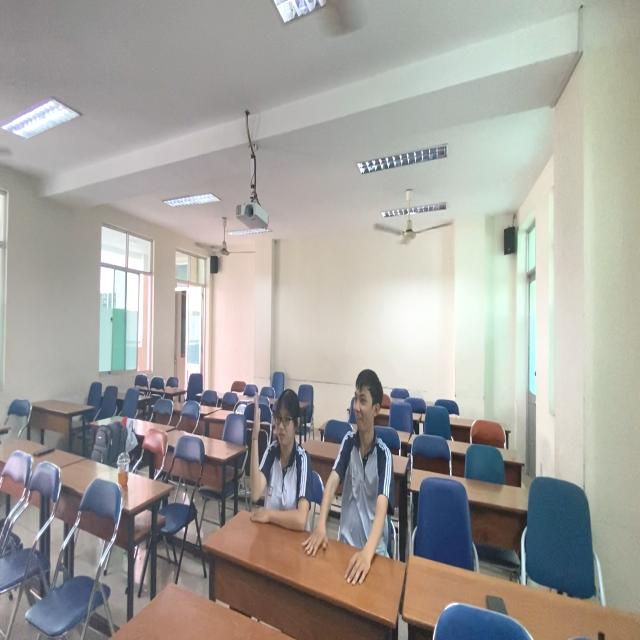raise_hand: (236, 367, 325, 558)
